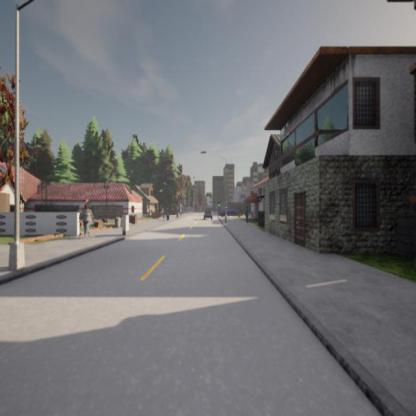person: (81, 201, 95, 240)
